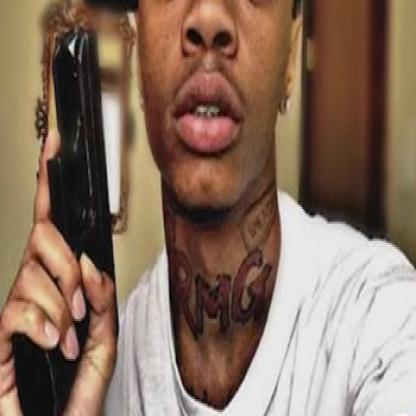gun: (16, 27, 122, 414)
